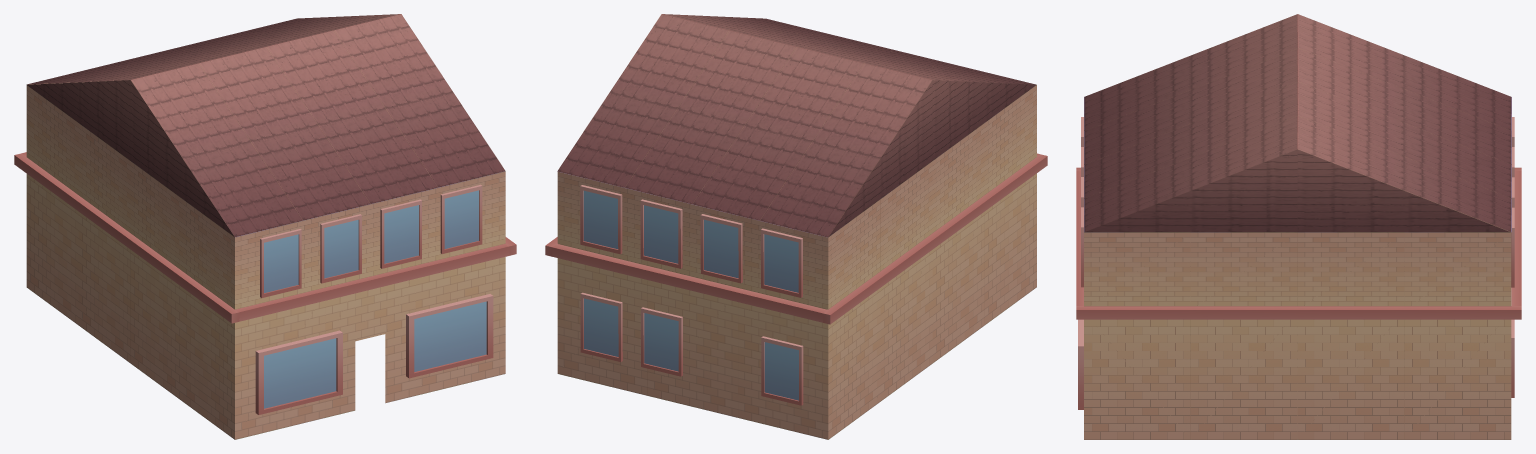
The model's file is HuisL.fbx.
3 renders of one model, left to right at view 1: azimuth 30°, elevation 25°; view 2: azimuth 150°, elevation 25°; view 3: azimuth 270°, elevation 25°, orthographic. The views are drawn at different scales.
Visible parts, largest first — view 1: HuisL; view 2: HuisL; view 3: HuisL.
Part boxes in pixels (x1,y1,x2,y2): HuisL: [14, 14, 516, 439]; HuisL: [545, 14, 1047, 439]; HuisL: [1076, 14, 1521, 439].
Bounding box in the file's own units: 947 × 901 × 1251.
